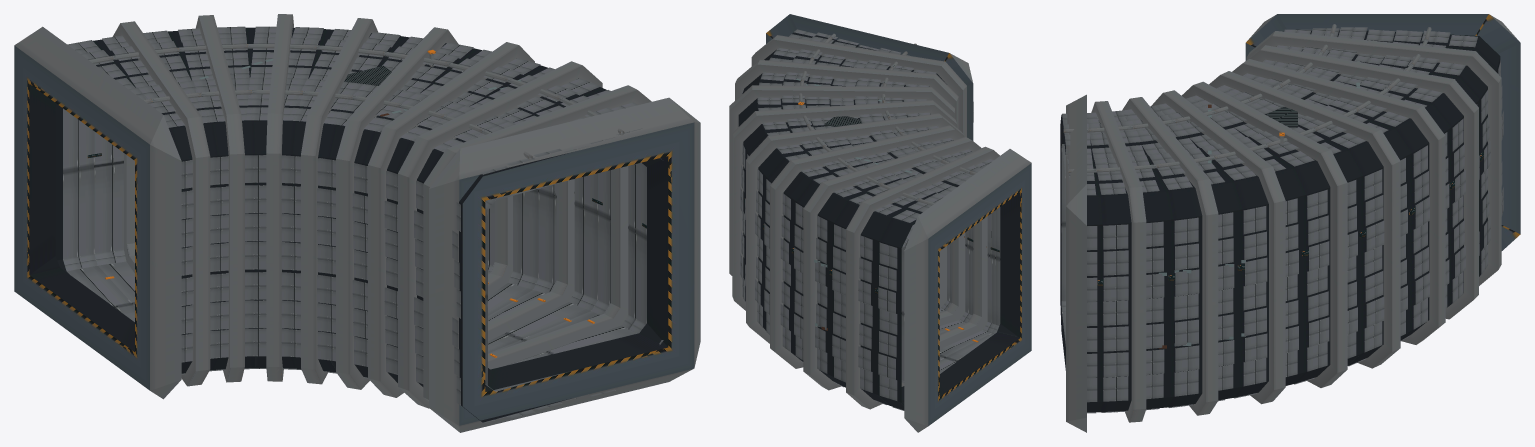
The model's file is kit_bend.glb.
The picture shows the model from 3 angles, left to right: view 1: azimuth 30°, elevation 25°; view 2: azimuth 150°, elevation 25°; view 3: azimuth 270°, elevation 25°; orthographic projection. The views are drawn at different scales.
Parts seen in each view (by area): view 1: lod0; view 2: lod0; view 3: lod0.
Part boxes in pixels (x1,y1,x2,y2): lod0: (14,14,700,432); lod0: (729,14,1031,432); lod0: (1060,14,1520,432).
Size of what is drawn, in the model's own units: 172 by 104 by 174.
1 material, 1 textured.
